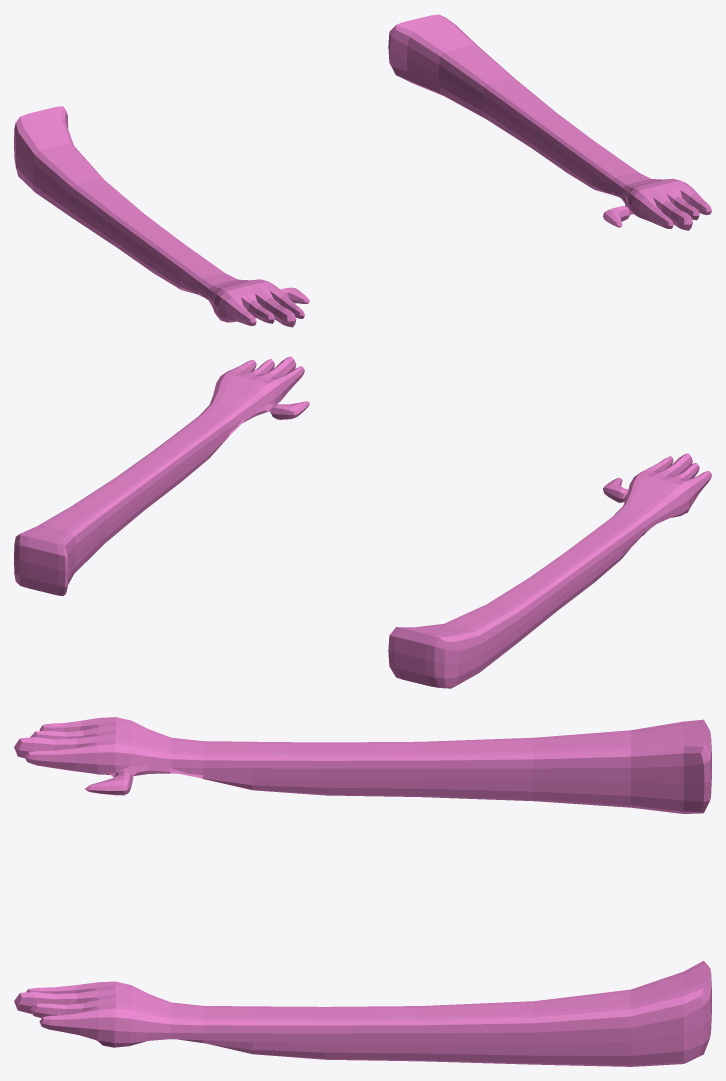
File: HandTest.fbx
The picture shows the model from 3 angles, top to bottom: view 1: azimuth 30°, elevation 25°; view 2: azimuth 150°, elevation 25°; view 3: azimuth 270°, elevation 25°; orthographic projection. The views are drawn at different scales.
Parts seen in each view (by area): view 1: Cube; view 2: Cube; view 3: Cube.
Part boxes in pixels (x1,y1,x2,y2): Cube: (14, 14, 711, 327); Cube: (14, 356, 711, 688); Cube: (14, 717, 711, 1066).
Size of the model in its own units: 945 by 109 by 924.
